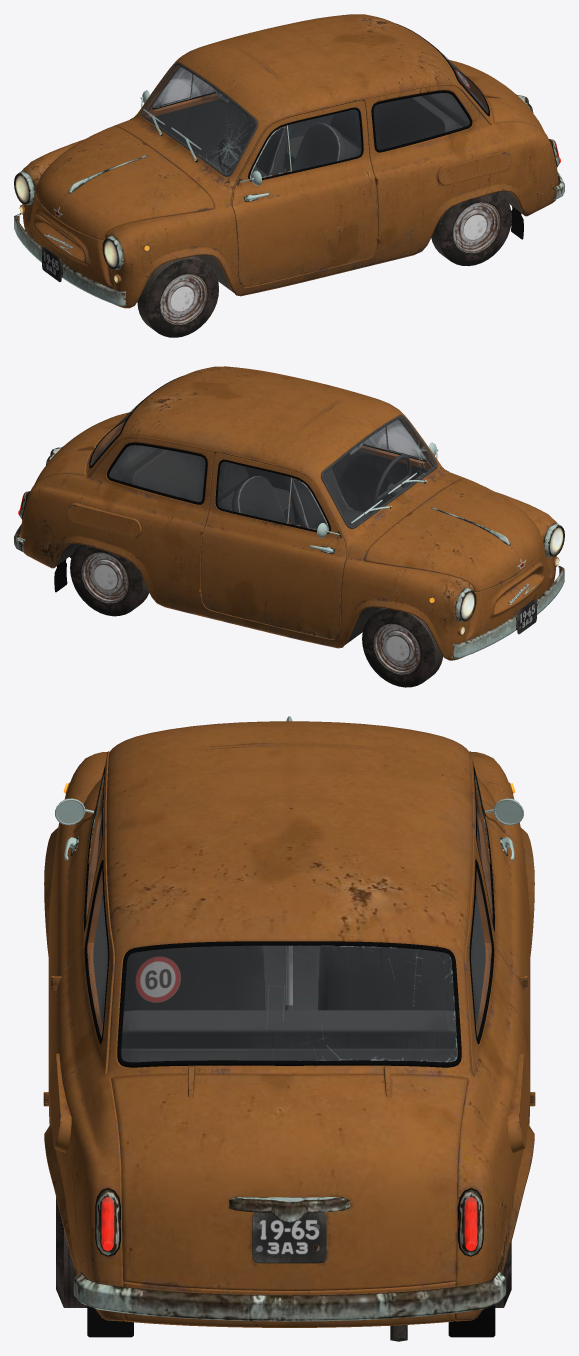
The picture shows the model from 3 angles, top to bottom: view 1: azimuth 30°, elevation 25°; view 2: azimuth 150°, elevation 25°; view 3: azimuth 270°, elevation 25°; orthographic projection. The views are drawn at different scales.
Visible parts, largest first — view 1: car_body, door_left, hood, interior_01, wheel_00, wheel_01, door_right, glass_00, back_door, front_bumper, glass_03, glass_02 (+3 smaller); view 2: car_body, door_right, hood, interior_01, wheel_03, wheel_02, door_left, glass_01, back_door, front_bumper, glass_02, glass_03 (+4 smaller); view 3: car_body, back_door, interior_01, rear_bumper, door_left, door_right, number_plate, wheel_01, lights_05.
Part boxes in pixels (x1,y1,x2,y2): car_body: (14, 14, 559, 308); door_left: (232, 100, 380, 286); hood: (35, 126, 214, 239); interior_01: (143, 65, 488, 208); wheel_00: (137, 256, 218, 337); wheel_01: (431, 192, 511, 266); door_right: (140, 74, 246, 159); glass_00: (287, 109, 361, 171); back_door: (448, 60, 544, 132); front_bumper: (14, 213, 126, 306); glass_03: (249, 125, 290, 178); glass_02: (153, 67, 192, 108); car_body: (19, 366, 564, 660); door_right: (199, 452, 346, 638); hood: (364, 478, 543, 591); interior_01: (91, 417, 435, 581); wheel_03: (362, 608, 443, 687); wheel_02: (70, 544, 149, 616); door_left: (332, 427, 438, 512); glass_01: (217, 461, 291, 523); back_door: (34, 412, 130, 484); front_bumper: (451, 566, 564, 658); glass_02: (288, 477, 329, 530); glass_03: (386, 419, 425, 460); car_body: (43, 721, 535, 1337); back_door: (111, 1066, 467, 1290); interior_01: (87, 817, 491, 1076); rear_bumper: (73, 1272, 506, 1321); door_left: (43, 763, 106, 1103); door_right: (472, 763, 535, 1103); number_plate: (252, 1212, 326, 1263); wheel_01: (56, 1197, 87, 1307); lights_05: (101, 1197, 477, 1251).
Bounding box in the file's own units: 329 × 133 × 147.
Materials: 8 (6 with a texture image).
